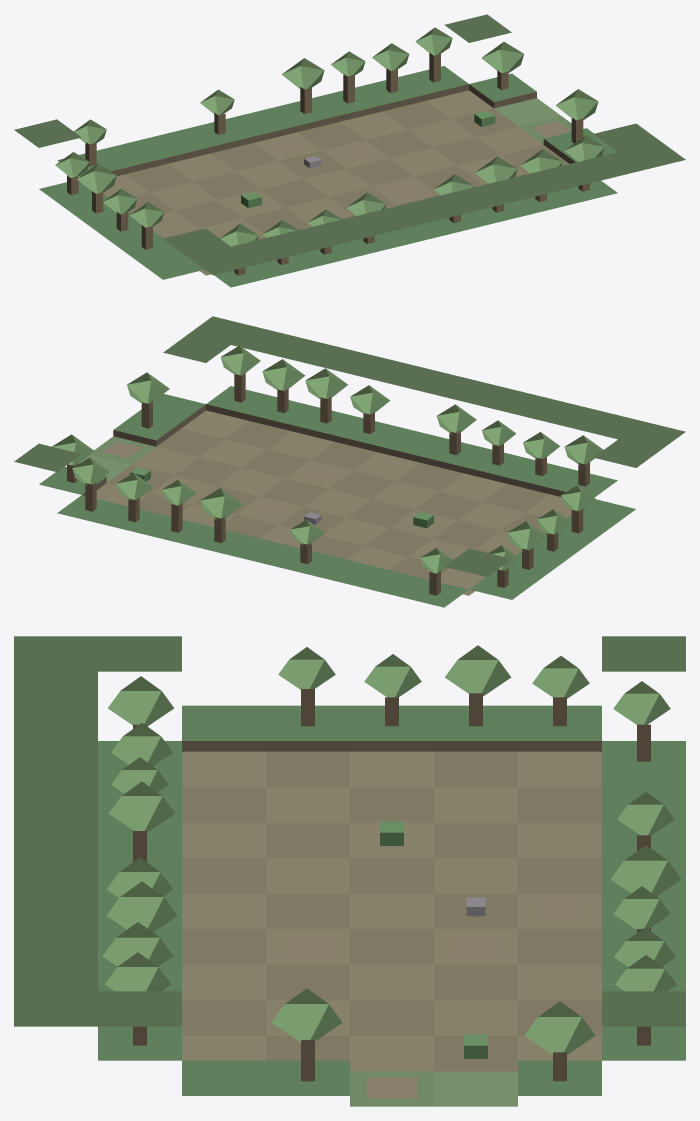
The picture shows the model from 3 angles, top to bottom: view 1: azimuth 30°, elevation 25°; view 2: azimuth 150°, elevation 25°; view 3: azimuth 270°, elevation 25°; orthographic projection. The views are drawn at different scales.
Visible parts, largest first — view 1: mesh0; view 2: mesh0; view 3: mesh0.
Boxes of the visible parts, x1,y1,x2,y2 form: mesh0: [14, 14, 685, 287]; mesh0: [14, 316, 685, 607]; mesh0: [14, 636, 685, 1106].
Bounding box in the file's own units: 11 × 1.34 × 8.
